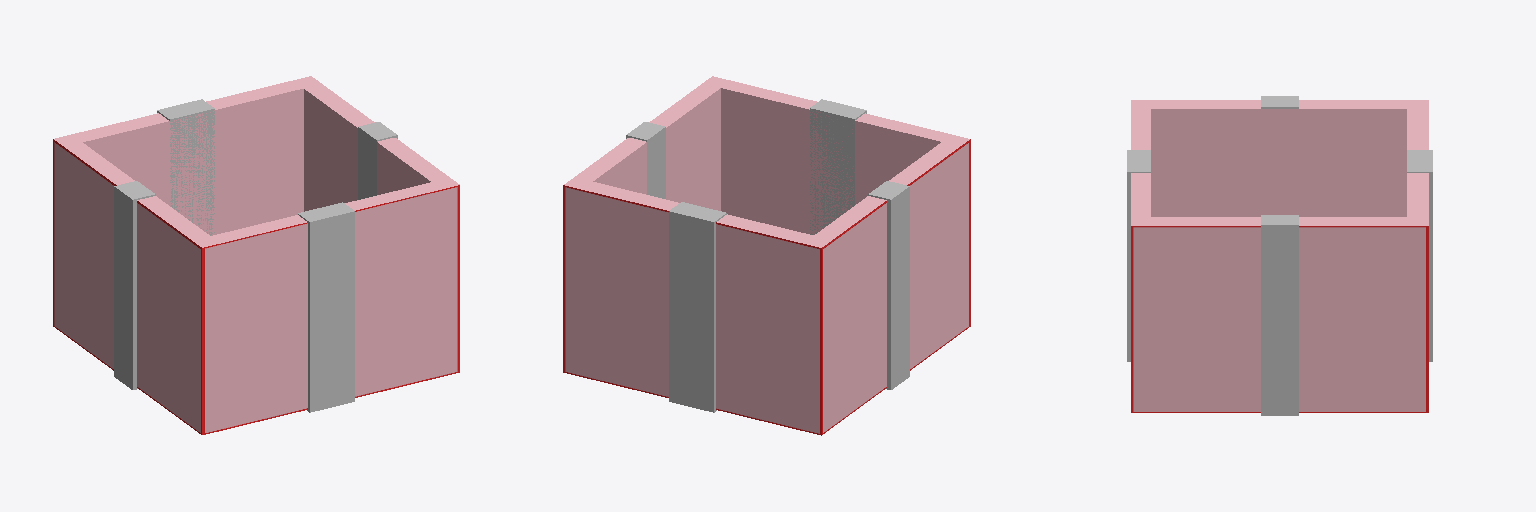
3 renders of one model, left to right at view 1: azimuth 30°, elevation 25°; view 2: azimuth 150°, elevation 25°; view 3: azimuth 270°, elevation 25°, orthographic.
Parts seen in each view (by area): view 1: Cubo, Cubo.001, Cubo.004; view 2: Cubo, Cubo.001, Cubo.004; view 3: Cubo, Cubo.004, Cubo.001.
Boxes of the visible parts, <box> form: Cubo: <box>53,76,459,434</box>; Cubo.001: <box>157,99,354,412</box>; Cubo.004: <box>114,122,397,389</box>; Cubo: <box>563,76,970,435</box>; Cubo.001: <box>669,99,866,412</box>; Cubo.004: <box>626,122,909,389</box>; Cubo: <box>1131,100,1428,412</box>; Cubo.004: <box>1261,96,1298,415</box>; Cubo.001: <box>1127,150,1432,361</box>.
Bounding box in the file's own units: 2.05 × 1.41 × 2.05.
Materials: 3 (1 with a texture image).